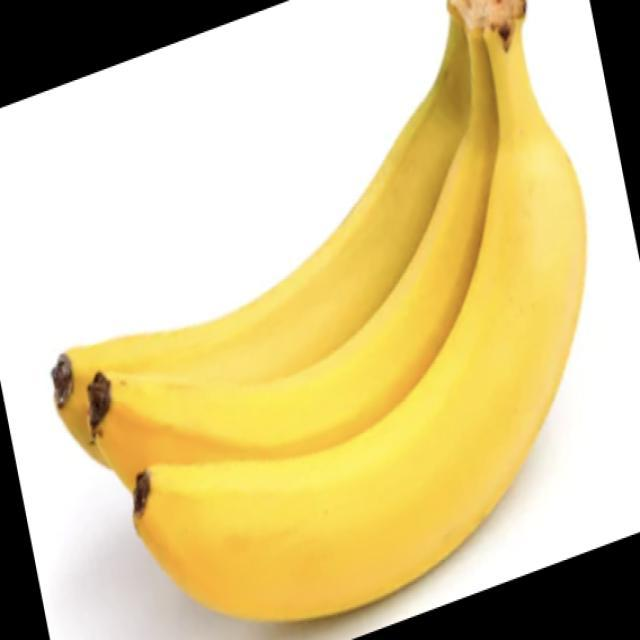Banana: (50, 0, 587, 624)
